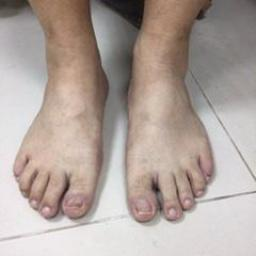Dorsal View -Both Feet-: (8, 8, 228, 234)
